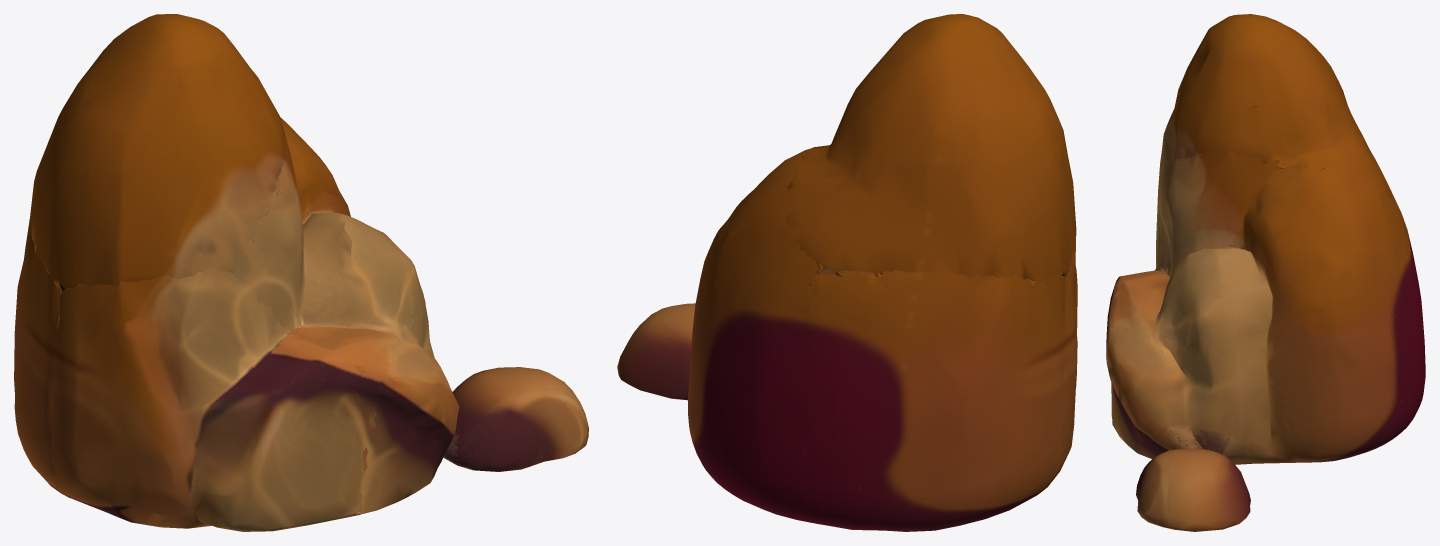
The model's file is desert-rocks-clean_parts_web.glb.
3 renders of one model, left to right at view 1: azimuth 30°, elevation 25°; view 2: azimuth 150°, elevation 25°; view 3: azimuth 270°, elevation 25°, orthographic. The views are drawn at different scales.
Parts seen in each view (by area): view 1: part_00; view 2: part_00; view 3: part_00.
Part boxes in pixels (left/top/right/bottom): part_00: left=14, top=14, right=588, bottom=531; part_00: left=617, top=14, right=1077, bottom=531; part_00: left=1106, top=14, right=1425, bottom=531.
Size of the model in its own units: 1.99 by 1.81 by 1.41.
6 materials, 6 textured.
